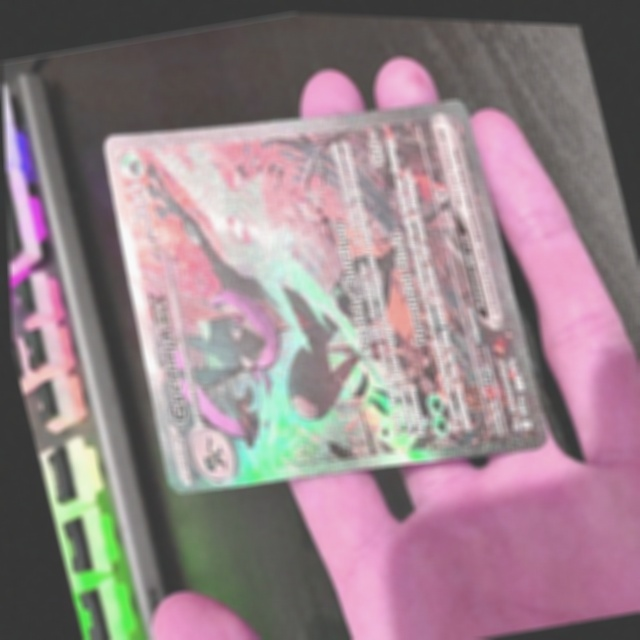card: (102, 92, 545, 493)
